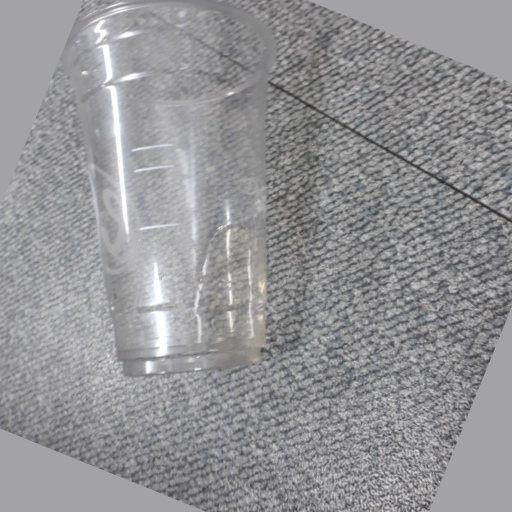Plastic_2: (64, 1, 283, 380)
